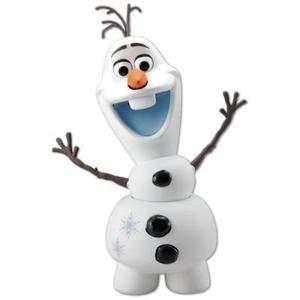olaf: (67, 2, 242, 294)
